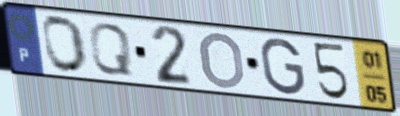2: (149, 24, 194, 87)
5: (310, 40, 350, 102)
G: (258, 36, 308, 97)
O: (40, 14, 90, 76), (198, 30, 247, 91)
Q: (87, 21, 136, 78)
